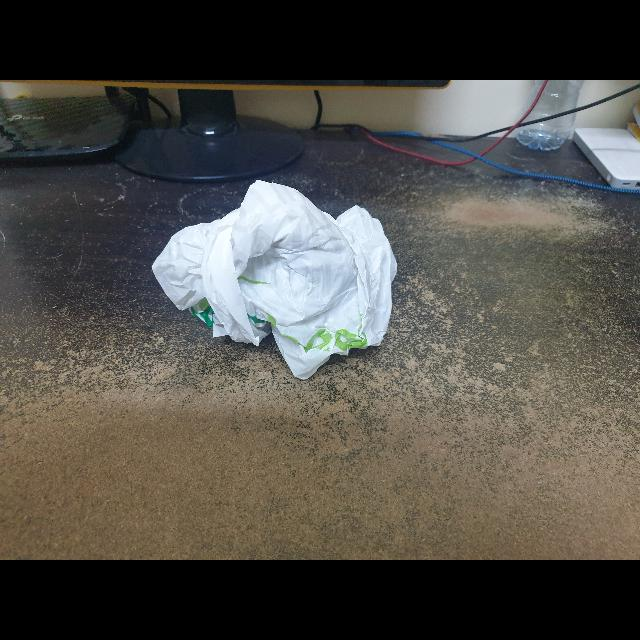plastic_bag: (148, 173, 400, 394)
